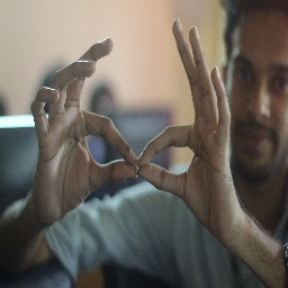B: (67, 83, 216, 209)
